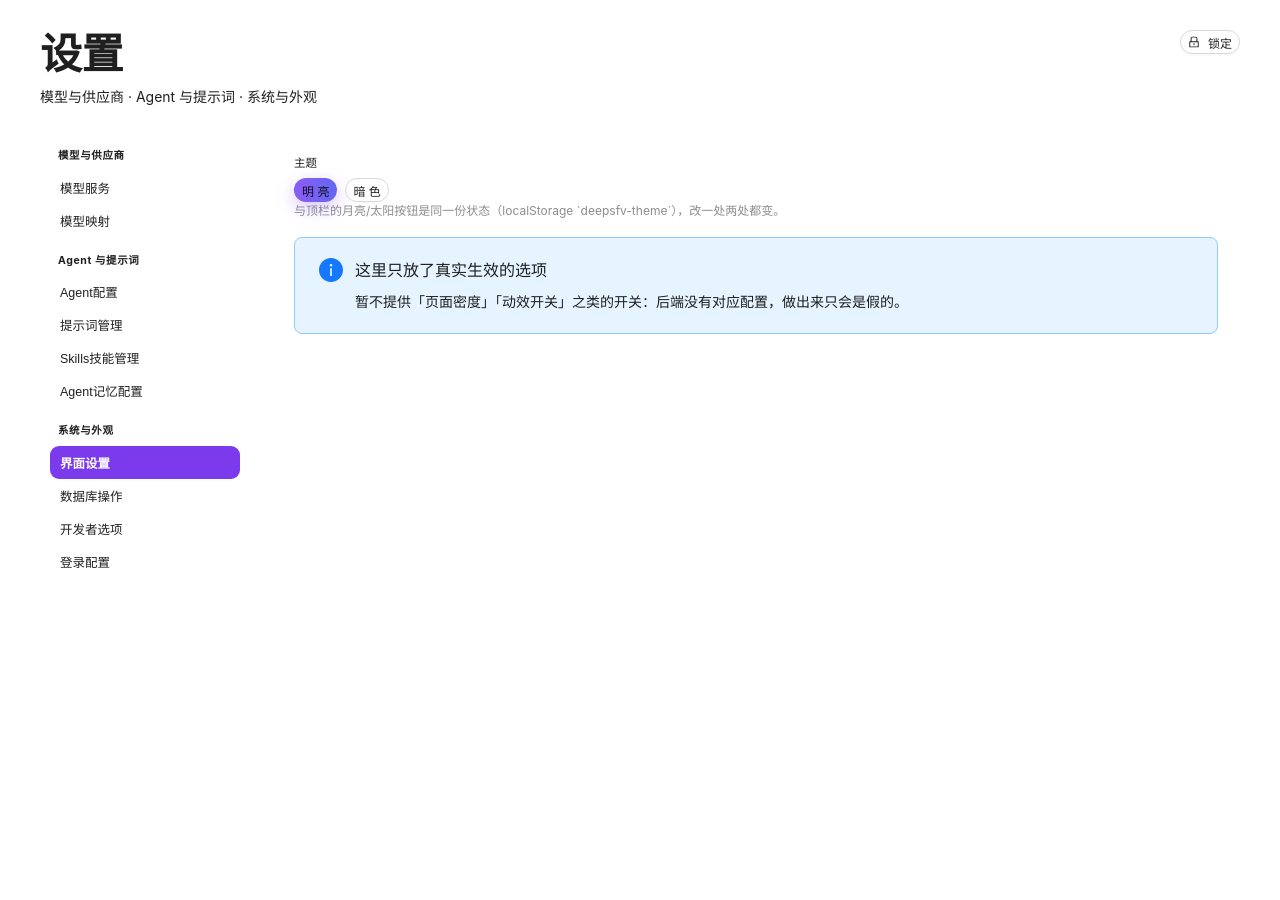
Scenario: SettingsPage（设置中心） › 登录配置：密码不回显、且接口也不再回传该字段
Expected: the text "主题" is shown, 294,156 -> 317,170
Click the button "登录配置".
click(145, 561)  # box 50,545 -> 240,578
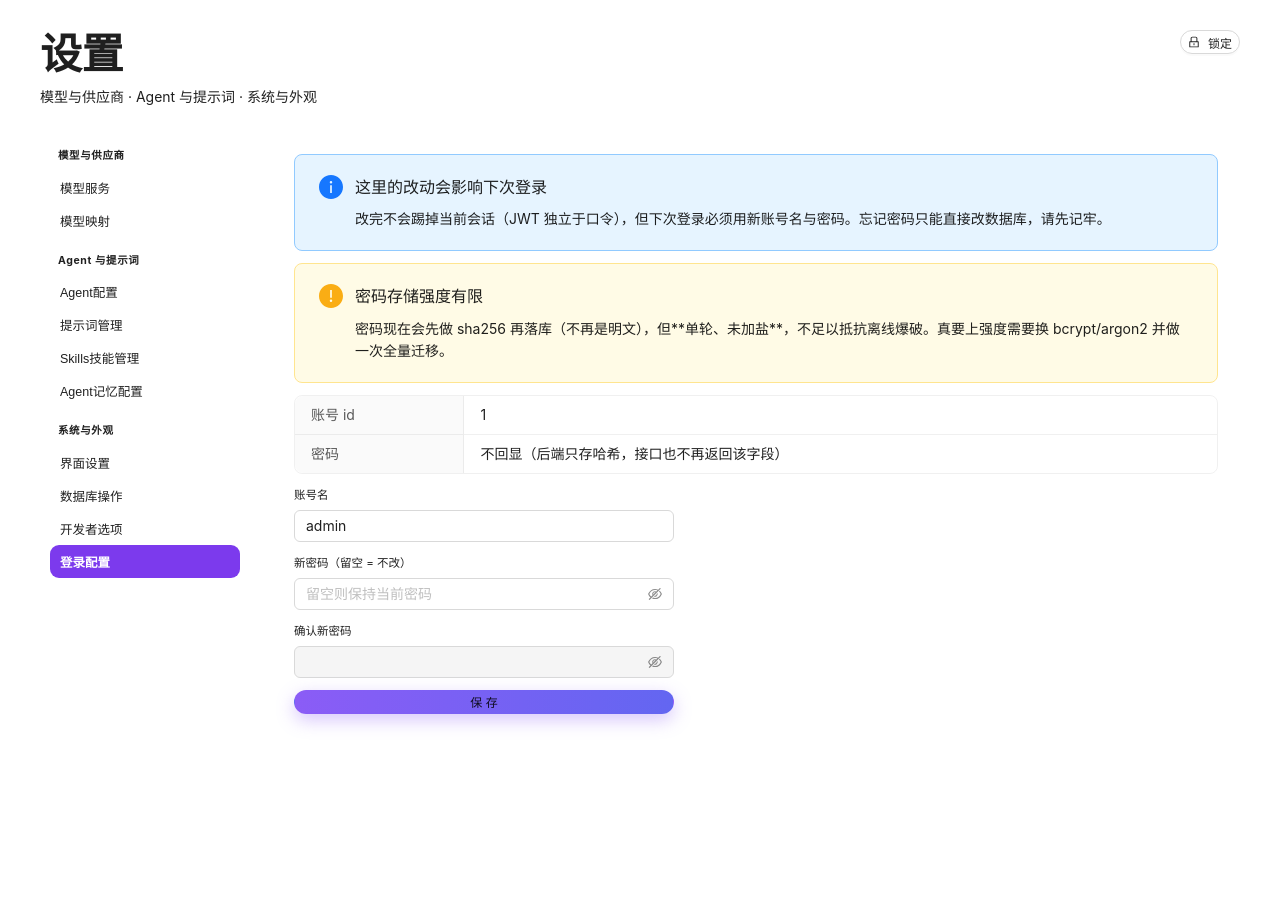
Expected: the text "密码存储强度有限" is shown, 355,286 -> 483,306
Expected: the field showing "admin" is shown, 294,510 -> 674,542
